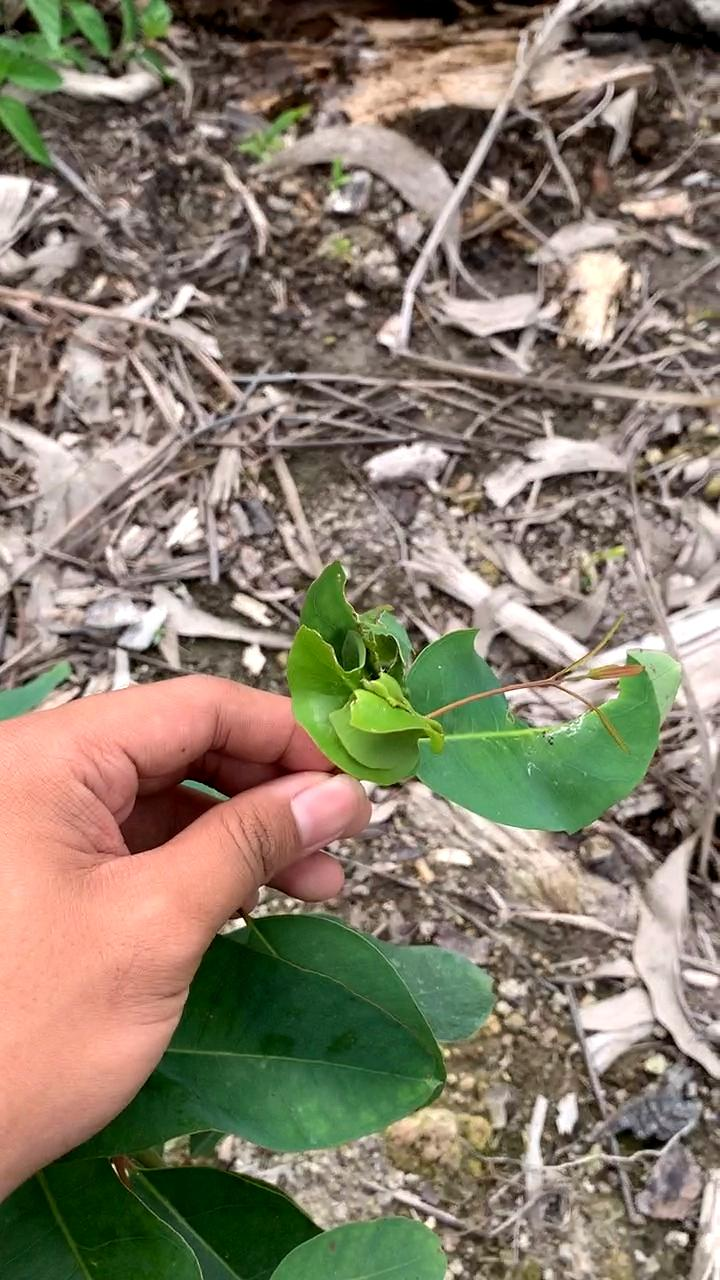Leaf Roller - Leaf: (283, 553, 446, 822)
